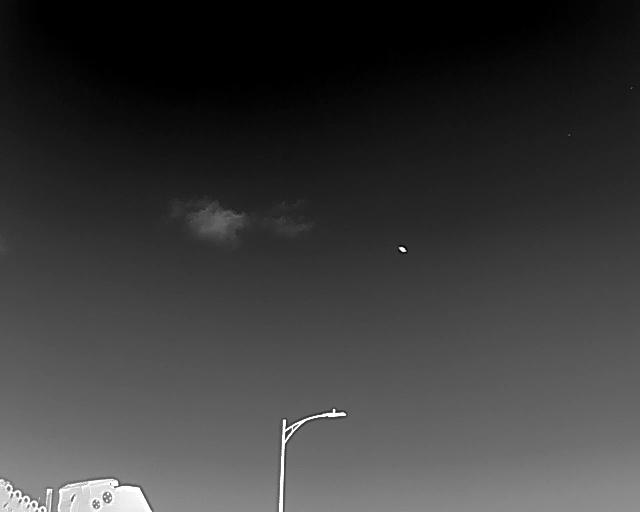fpv-drone: (398, 245, 407, 252)
